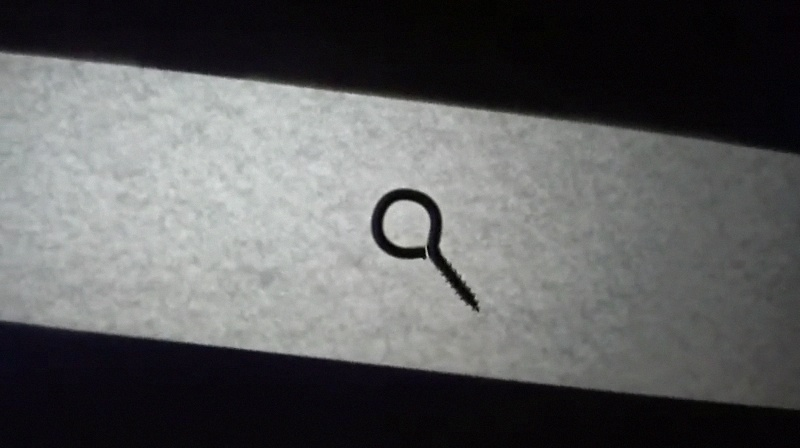O001: (366, 185, 482, 319)
